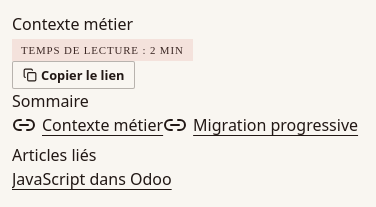
Test case: ArticleEnhancements › shows copied feedback after using the copy link button
Click the button "Copier le lien": (74, 75) left=12, top=61, right=135, bottom=89
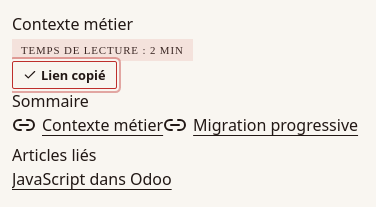
Expected: the button "Lien copié" is shown, left=12, top=61, right=116, bottom=89
